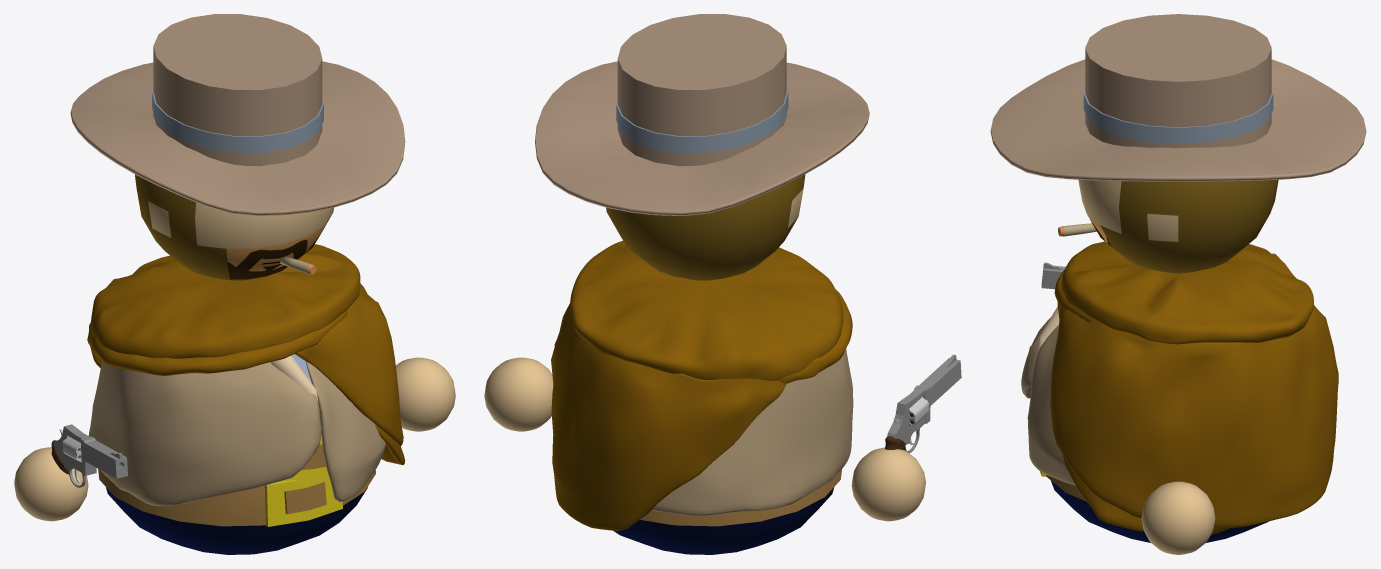
Rendered from ClintEastwood.fbx.
3 renders of one model, left to right at view 1: azimuth 30°, elevation 25°; view 2: azimuth 150°, elevation 25°; view 3: azimuth 270°, elevation 25°, orthographic.
Parts seen in each view (by area): view 1: ClintTopHat_model, ClintCloak_model, ClintJacket_model, ClintBody_model, ClintHead_model, ClintRightHand_model, ClintLeftHand_model, Revolver:RevolverHandle_model1, ClintTopBelt_model; view 2: ClintCloak_model, ClintTopHat_model, ClintJacket_model, ClintHead_model, ClintBody_model, ClintRightHand_model, ClintLeftHand_model, Revolver:RevolverHandle_model1; view 3: ClintCloak_model, ClintTopHat_model, ClintHead_model, ClintJacket_model, ClintLeftHand_model, ClintBody_model.
Boxes of the visible parts, x1,y1,x2,y2 form: ClintTopHat_model: (70,14,405,215); ClintCloak_model: (87,244,405,465); ClintJacket_model: (88,355,385,506); ClintBody_model: (98,354,375,554); ClintHead_model: (135,174,333,280); ClintRightHand_model: (14,447,88,521); ClintLeftHand_model: (396,357,455,431); Revolver:RevolverHandle_model1: (51,424,127,487); ClintTopBelt_model: (282,434,328,480); ClintCloak_model: (551,241,852,530); ClintTopHat_model: (535,14,869,215); ClintJacket_model: (652,349,853,515); ClintHead_model: (606,174,805,280); ClintBody_model: (613,469,841,554); ClintRightHand_model: (851,447,925,521); ClintLeftHand_model: (484,357,553,431); Revolver:RevolverHandle_model1: (885,354,961,453); ClintCloak_model: (1050,241,1338,534); ClintTopHat_model: (990,14,1366,181); ClintHead_model: (1078,179,1278,273); ClintJacket_model: (1021,306,1075,485); ClintLeftHand_model: (1141,481,1215,554); ClintBody_model: (1040,471,1268,542).
Bounding box in the file's own units: 21.34 × 22.8 × 16.24.
